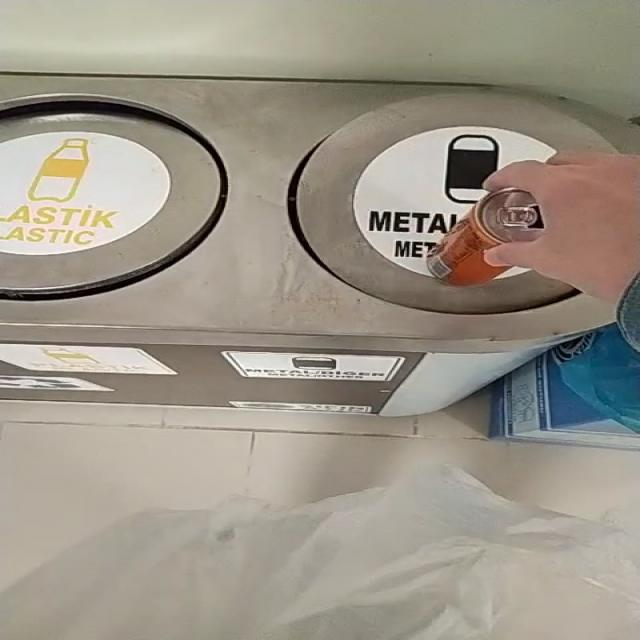bin: (1, 76, 637, 420)
metal: (427, 188, 545, 286)
